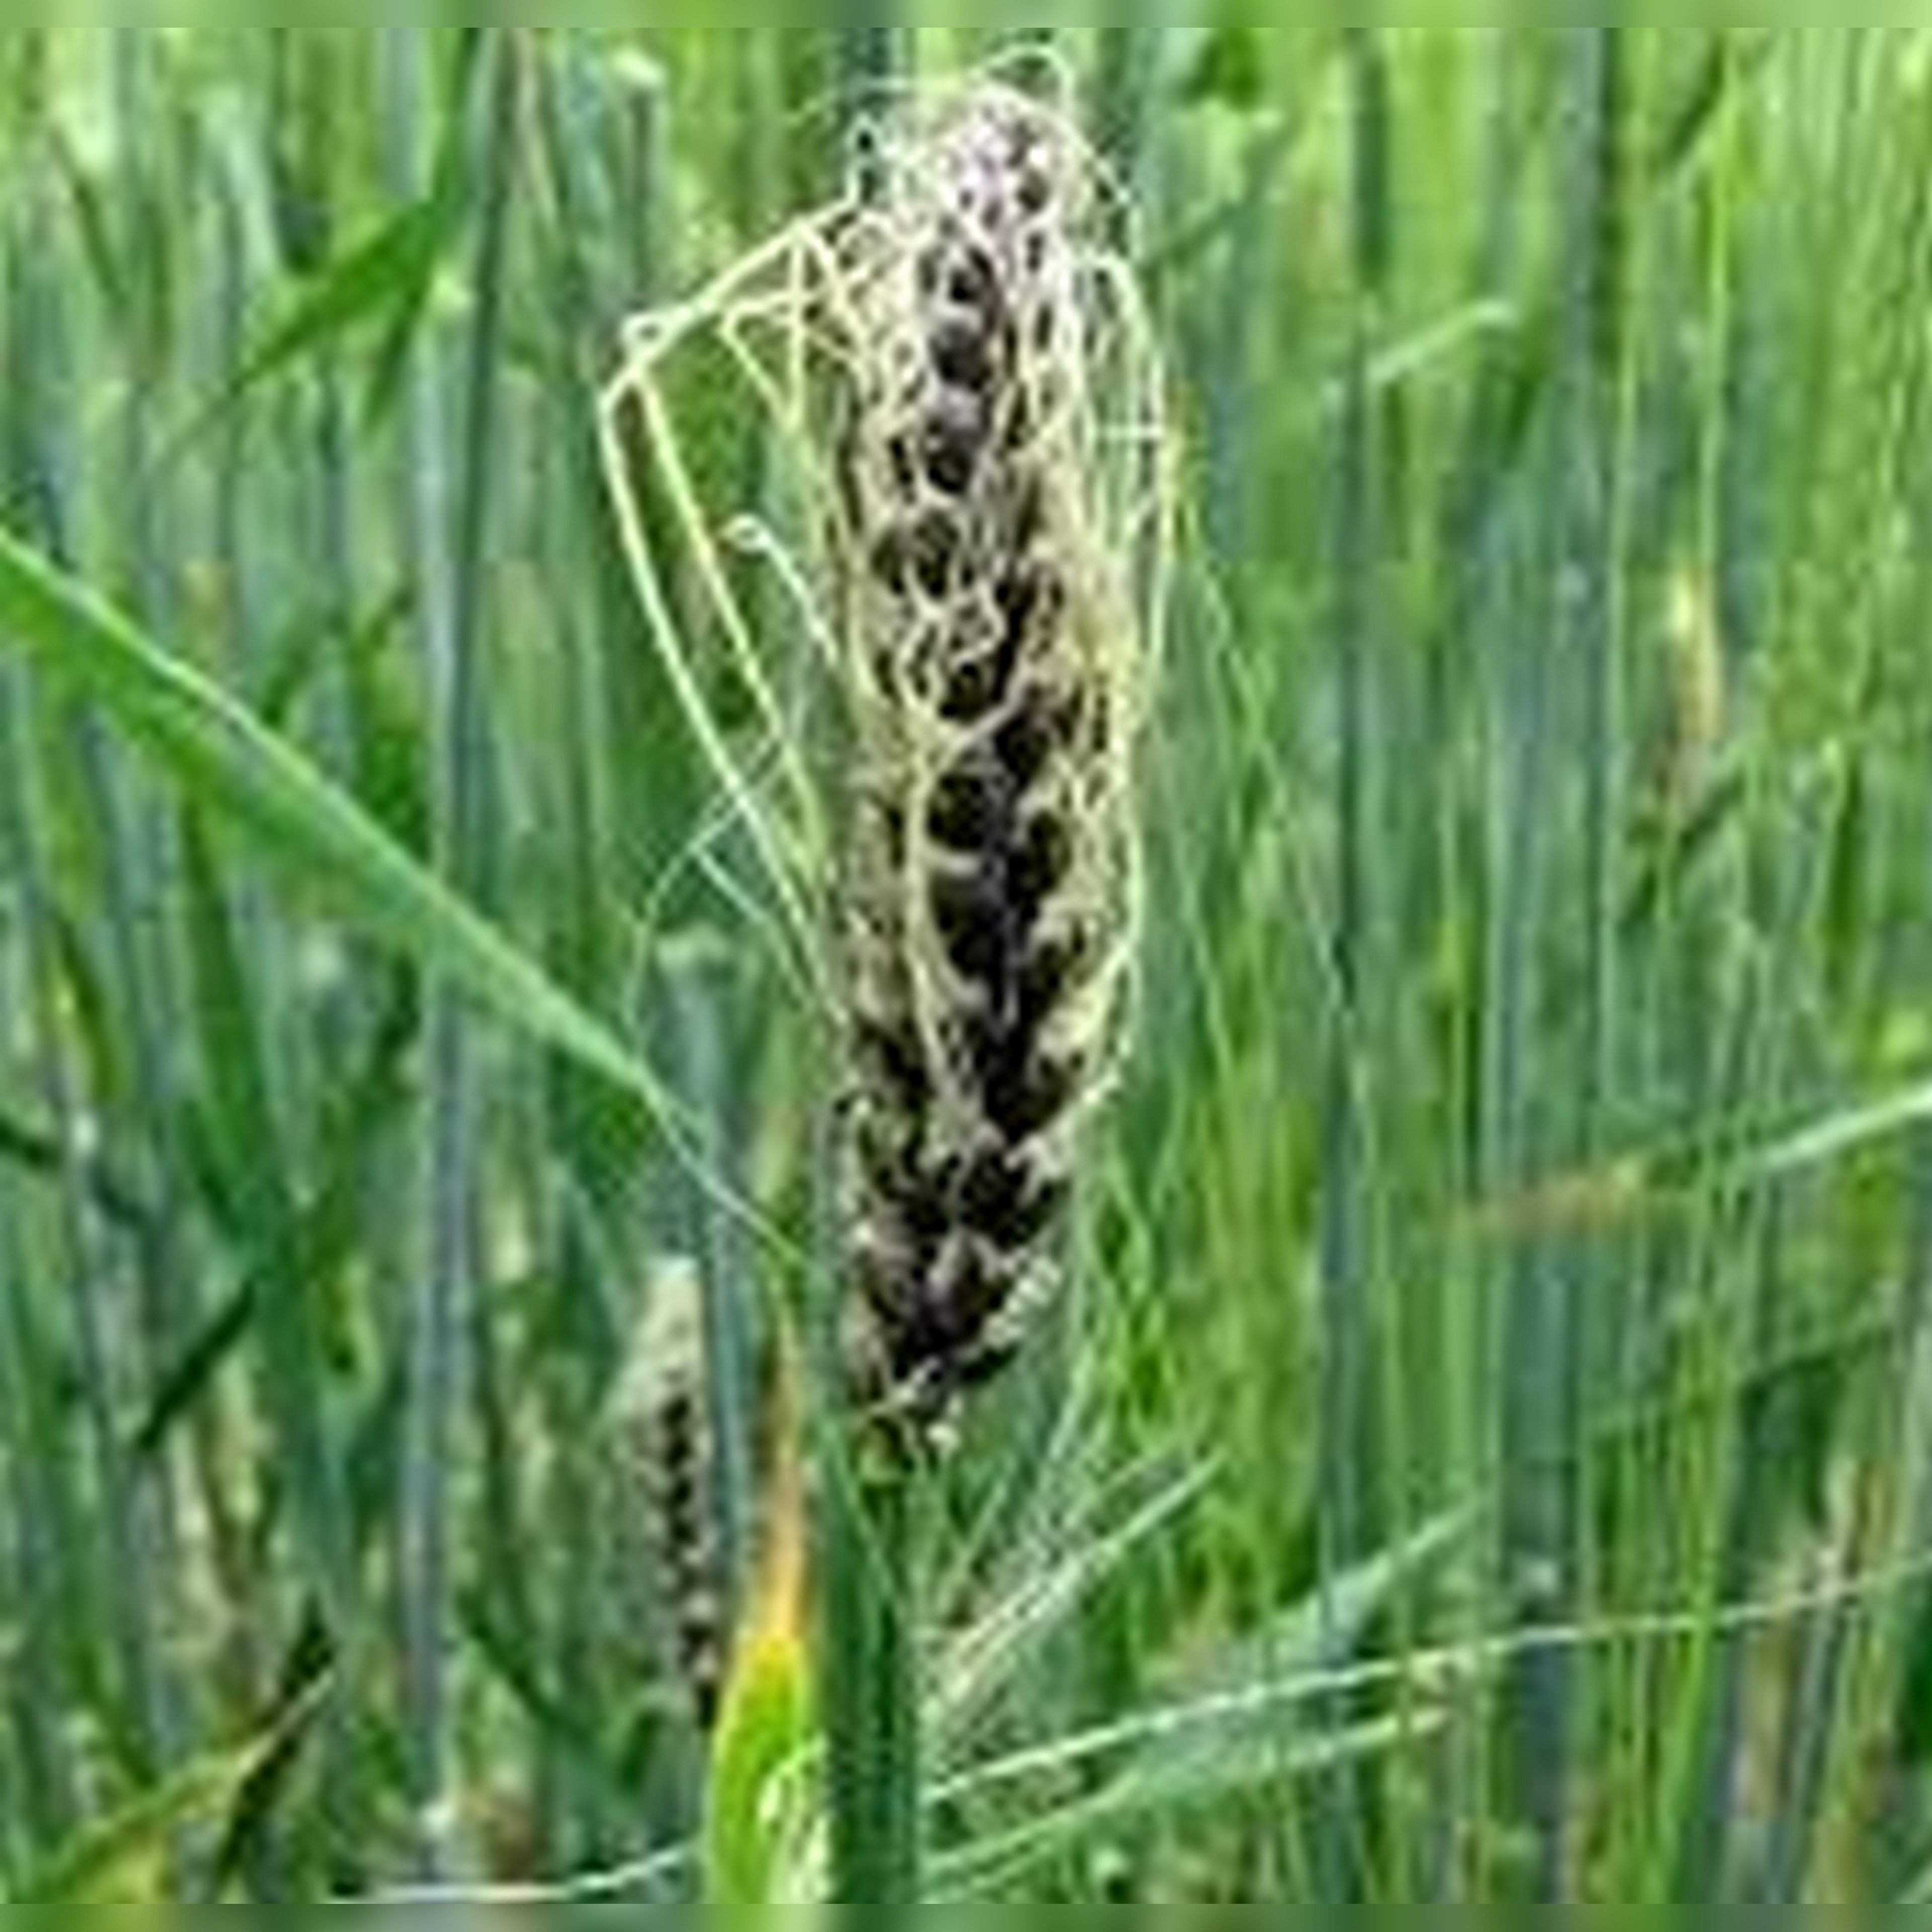Wheat Loose Smut: (782, 104, 1154, 1470)
